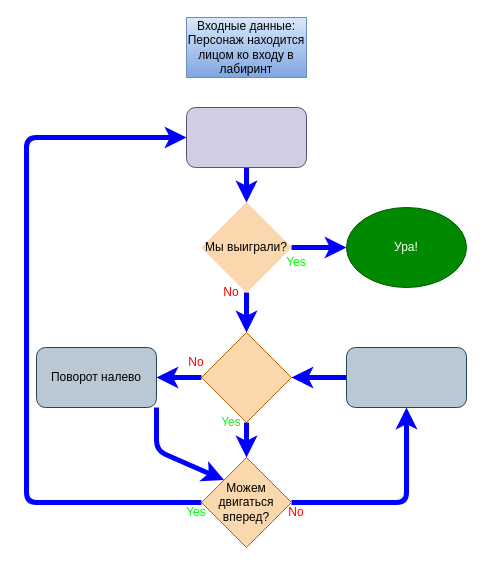
Some shapes in this 484 by 565 pixel diagram are drawn without their labels. Here are the shapes that lost their labels. From the top down, the box of each, then its label:
(186, 106, 306, 168): Делаем шаг вперед
(200, 332, 292, 422): Стена слева?
(346, 346, 466, 408): Поворот направо
